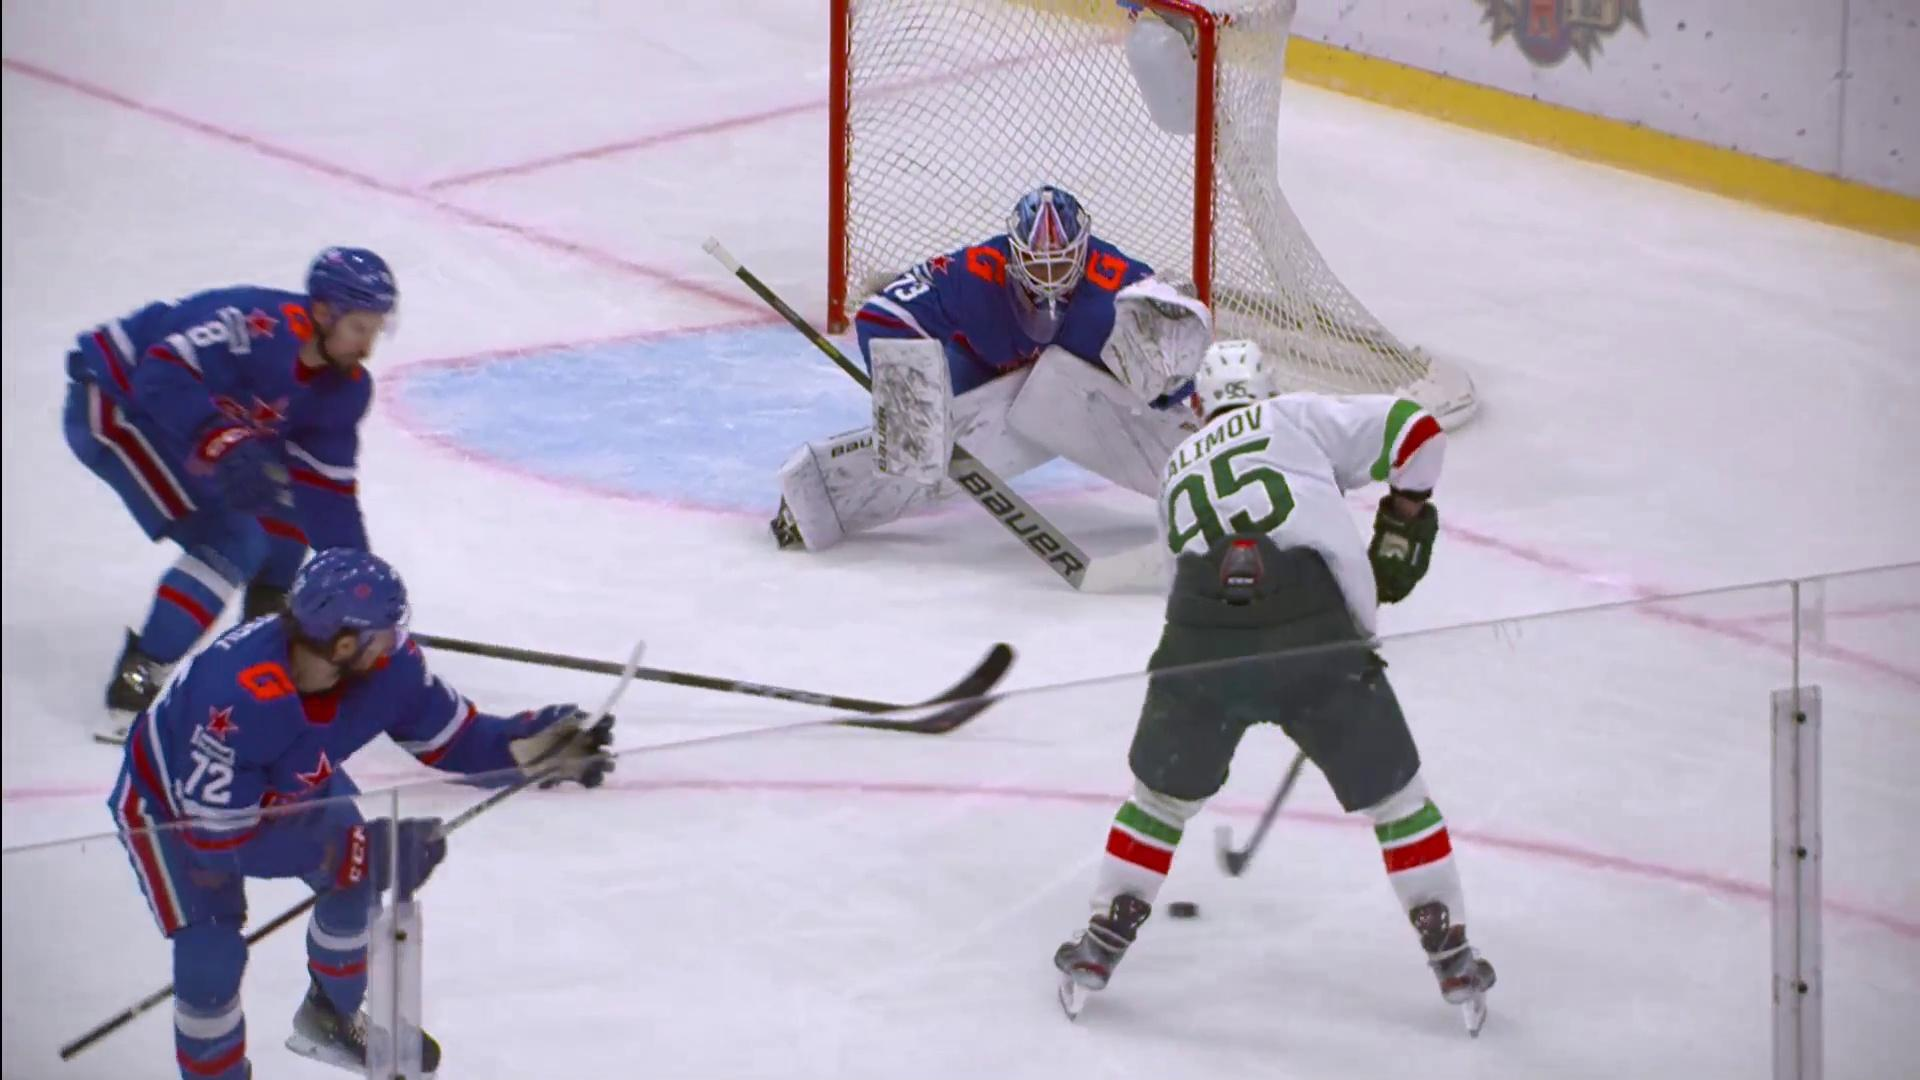ball: (1168, 902, 1200, 919)
